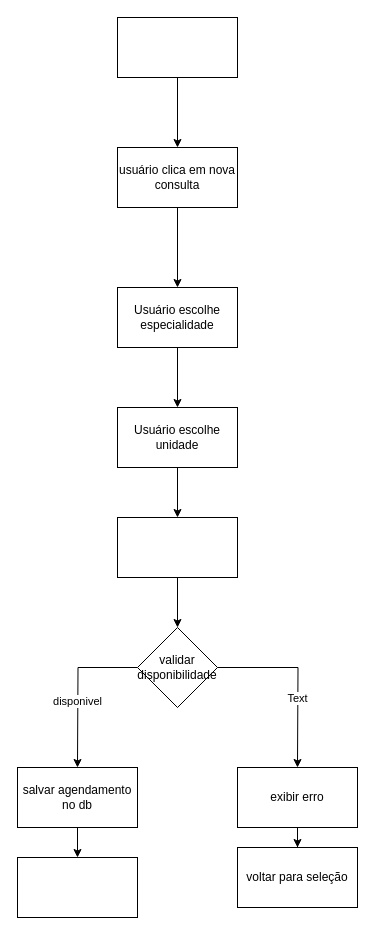
This 375x935 diagram has some shape labels left out. Here are the shapes that lost their labels. From the top down, the box of each, then its label:
(116, 16, 238, 78): Usuário acessa aplicação
(116, 516, 238, 578): Usuário seleciona data e horário
(16, 856, 138, 918): Retornar confirmação
